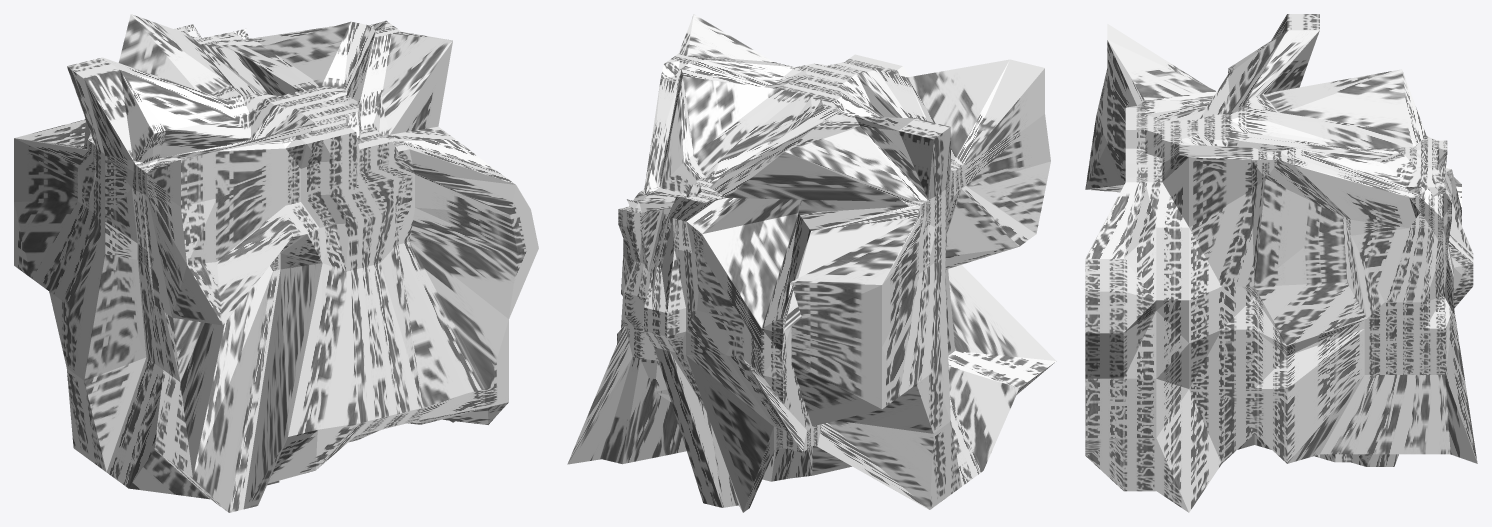
Rendered from bola papel.dae.
The picture shows the model from 3 angles, left to right: view 1: azimuth 30°, elevation 25°; view 2: azimuth 150°, elevation 25°; view 3: azimuth 270°, elevation 25°; orthographic projection. The views are drawn at different scales.
Visible parts, largest first — view 1: Cube; view 2: Cube; view 3: Cube.
Boxes of the visible parts, box(x1,y1,x2,y2) form: Cube: box(14, 14, 538, 512); Cube: box(567, 14, 1056, 512); Cube: box(1085, 14, 1477, 512).
Size of the model in its own units: 1.89 by 2 by 2.05.
1 material, 1 textured.
